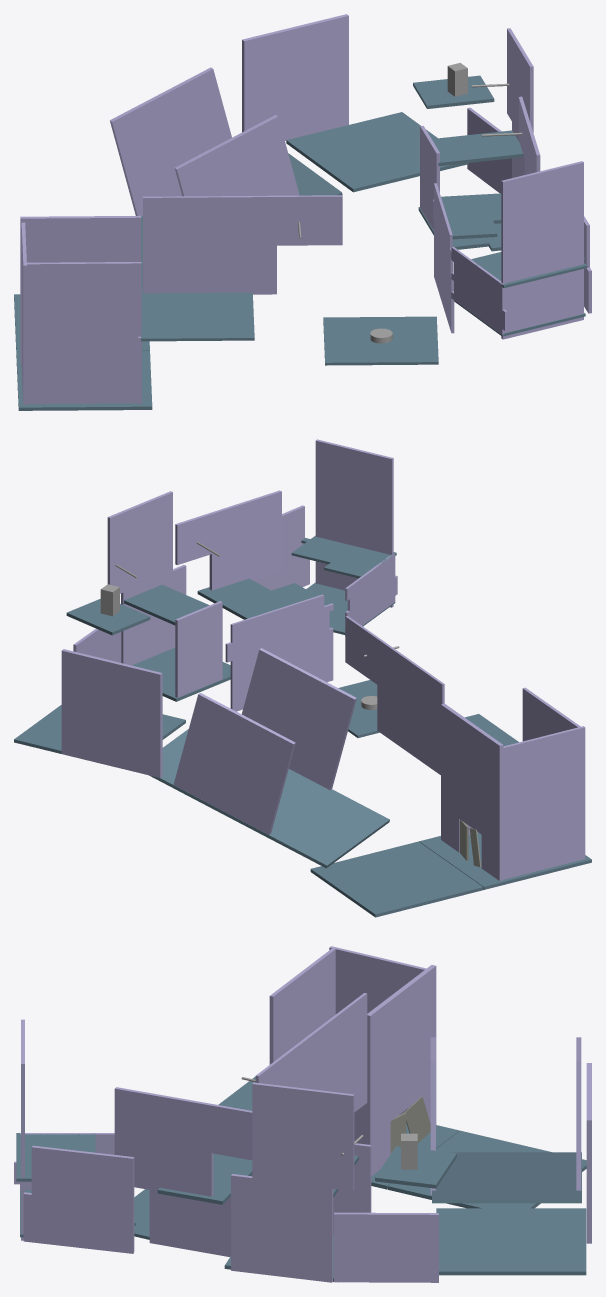
Rendered from levelDesign1.fbx.
3 renders of one model, top to bottom at view 1: azimuth 30°, elevation 25°; view 2: azimuth 150°, elevation 25°; view 3: azimuth 270°, elevation 25°, orthographic. The views are drawn at different scales.
Parts seen in each view (by area): view 1: pCube40, pCube38, pCube18, pCube27, pCube28, pCube12, pCube31, pCube32, pCube39, pCube41, pCube2, pCube22 (+14 smaller); view 2: pCube36, pCube27, pCube28, pCube31, pCube18, pCube32, pCube19, pCube40, pCube20, pCube25, pCube10, pCube44 (+15 smaller); view 3: pCube25, pCube24, pCube12, pCube44, pCube23, pCube32, pCube15, pCube19, pCube40, pCube38, pCube10, pCube36 (+16 smaller).
Boxes of the visible parts, x1,y1,x2,y2 form: pCube40: (143, 195, 342, 294); pCube38: (25, 262, 141, 403); pCube18: (501, 161, 583, 339); pCube27: (242, 14, 348, 140); pCube28: (110, 67, 231, 216); pCube12: (286, 112, 468, 192); pCube31: (174, 115, 299, 196); pCube32: (20, 215, 141, 362); pCube39: (141, 292, 254, 341); pCube41: (323, 316, 438, 365); pCube2: (451, 247, 507, 335); pCube22: (441, 193, 501, 239); pCube36: (503, 726, 585, 879); pCube27: (61, 649, 162, 777); pCube28: (173, 693, 295, 837); pCube31: (242, 648, 356, 789); pCube18: (315, 439, 393, 607); pCube32: (441, 703, 503, 880); pCube19: (149, 729, 389, 868); pCube40: (345, 616, 444, 774); pCube20: (310, 841, 483, 917); pCube25: (175, 490, 281, 590); pCube10: (225, 594, 333, 711); pCube44: (107, 491, 172, 593); pCube25: (114, 1087, 252, 1196); pCube24: (23, 1145, 134, 1253); pCube12: (436, 1208, 586, 1275); pCube44: (252, 1082, 354, 1190); pCube23: (231, 1174, 333, 1282); pCube32: (366, 965, 436, 1176); pCube15: (334, 1212, 438, 1282); pCube19: (432, 1152, 581, 1203); pCube40: (255, 993, 367, 1112); pCube38: (269, 948, 335, 1064); pCube10: (149, 1175, 252, 1256); pCube36: (329, 946, 426, 1114).
Bounding box in the file's own units: 4401 × 2080 × 3852.
